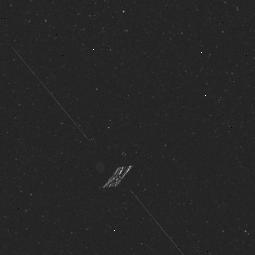smart_1: (66, 114, 168, 236)
